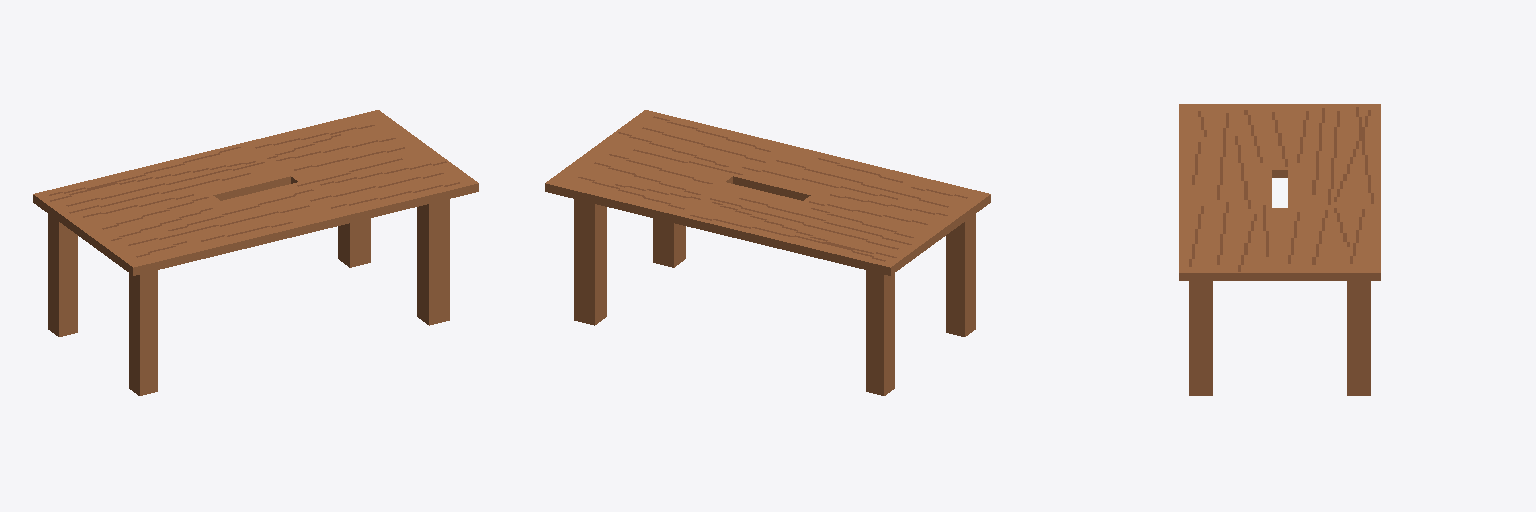
3 views of the same model, side by side, from view 1: azimuth 30°, elevation 25°; view 2: azimuth 150°, elevation 25°; view 3: azimuth 270°, elevation 25° (orthographic).
Parts seen in each view (by area): view 1: object 1; view 2: object 1; view 3: object 1.
Boxes of the visible parts, x1,y1,x2,y2 form: object 1: [33, 110, 478, 395]; object 1: [545, 110, 990, 395]; object 1: [1179, 104, 1380, 395].
Bounding box in the file's own units: 12.9 × 4.8 × 6.5.
Materials: 1 (1 with a texture image).